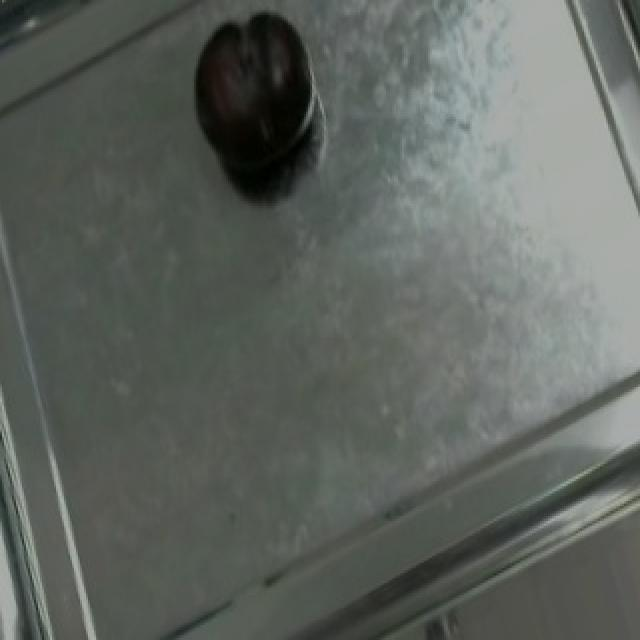Fruit: (172, 0, 330, 193)
